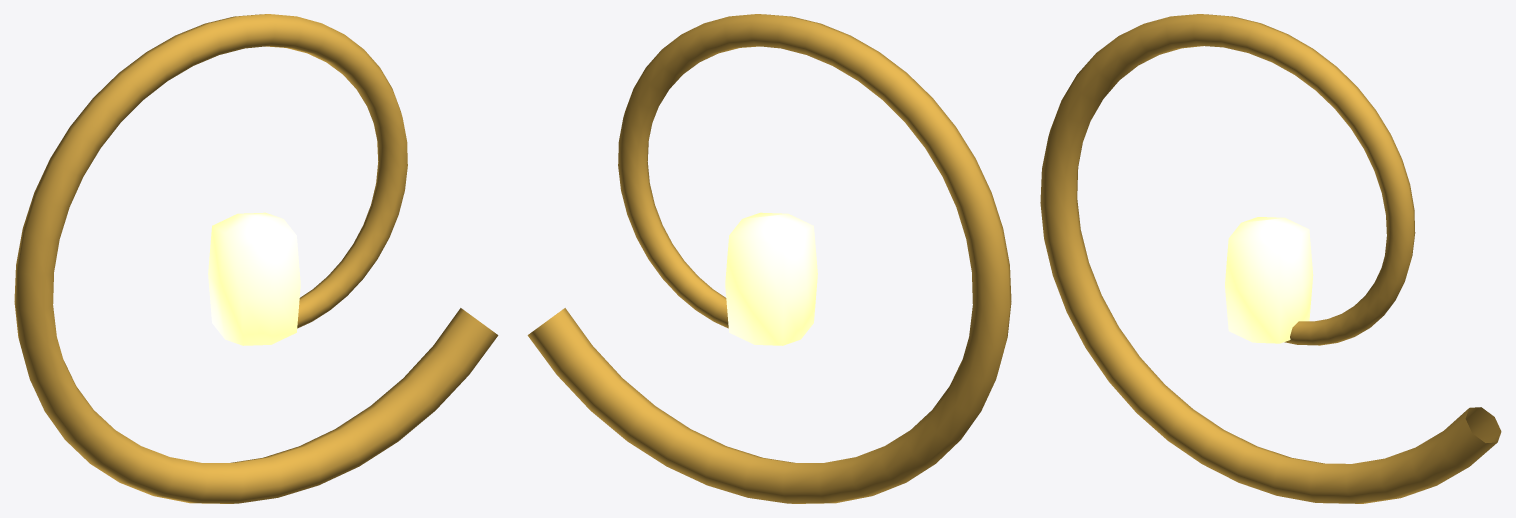
Rendered from spark-tail.fit.glb.
3 renders of one model, left to right at view 1: azimuth 30°, elevation 25°; view 2: azimuth 150°, elevation 25°; view 3: azimuth 330°, elevation 25°, orthographic. The views are drawn at different scales.
Visible parts, largest first — view 1: spark-tail; view 2: spark-tail; view 3: spark-tail.
Boxes of the visible parts, x1,y1,x2,y2 form: spark-tail: (14, 14, 498, 503); spark-tail: (527, 14, 1011, 503); spark-tail: (1040, 14, 1501, 503).
Bounding box in the file's own units: 0.3751 × 0.3666 × 0.055.
